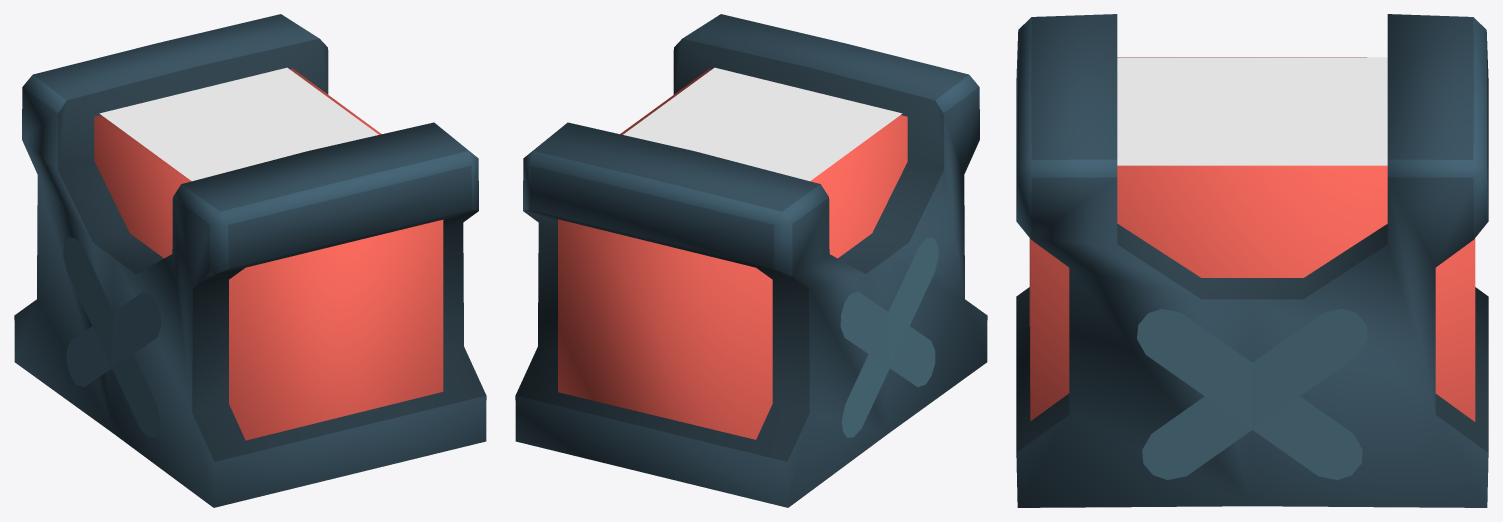
Rendered from Red_ammo.fbx.
3 views of the same model, side by side, from view 1: azimuth 30°, elevation 25°; view 2: azimuth 150°, elevation 25°; view 3: azimuth 270°, elevation 25° (orthographic). The views are drawn at different scales.
Visible parts, largest first — view 1: Red_ammo; view 2: Red_ammo; view 3: Red_ammo.
Part boxes in pixels (x1,y1,x2,y2): Red_ammo: [14, 14, 486, 507]; Red_ammo: [515, 14, 987, 507]; Red_ammo: [1016, 14, 1488, 507].
Size of the model in its own units: 160 by 201 by 162.
